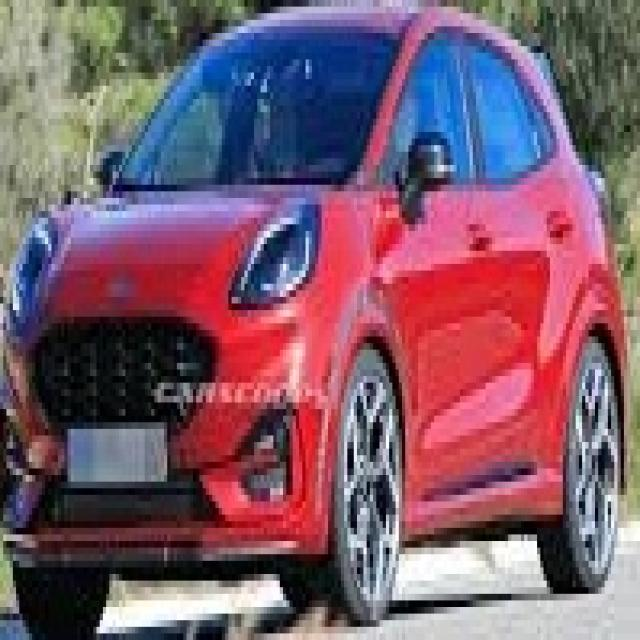red: (10, 11, 627, 609)
